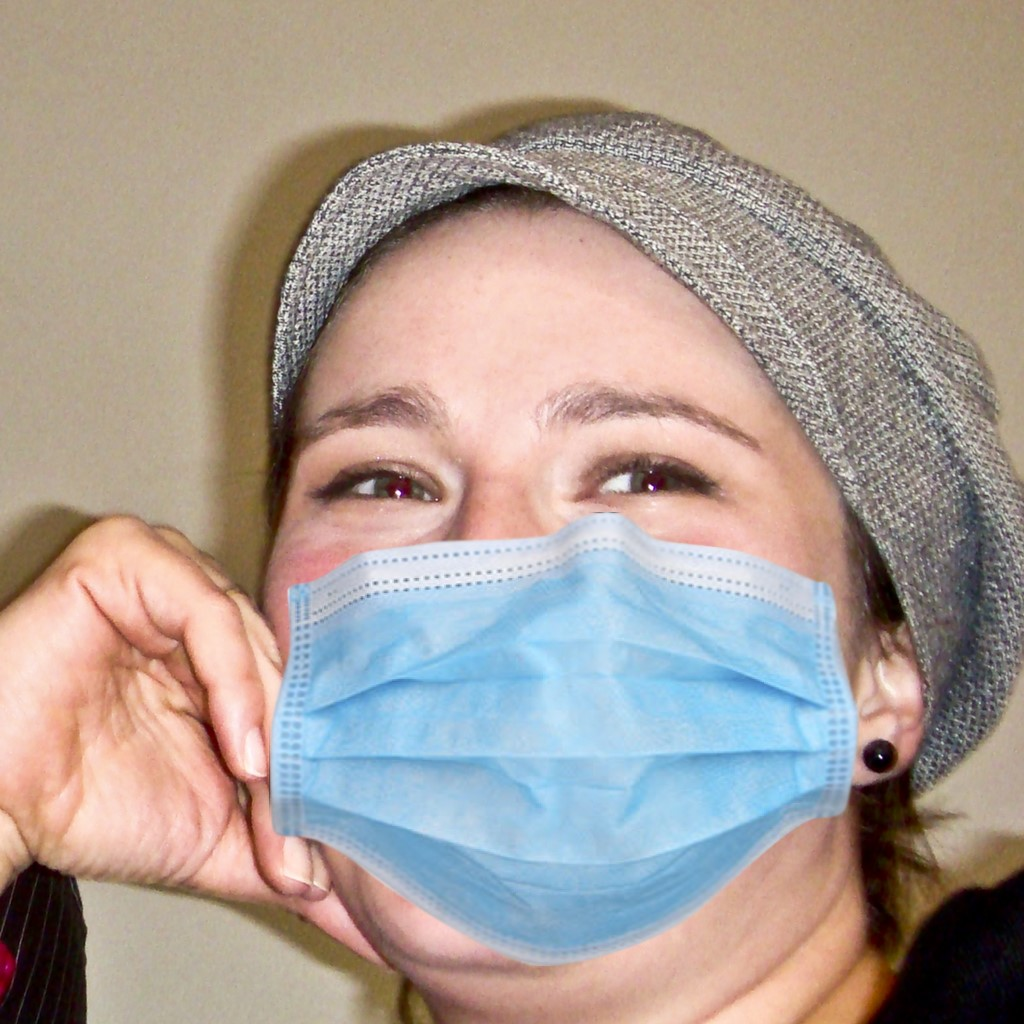con_mascara: (265, 182, 896, 979)
